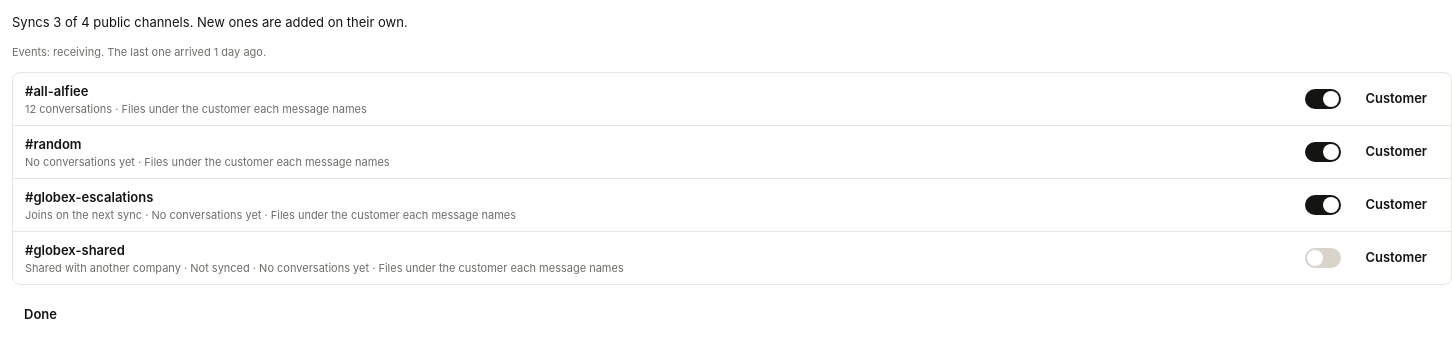
Scenario: SlackChannelsPanel (frontend Decisions 2 to 4) › stops syncing a channel and says so
Step 1. Click the switch named "Sync #random" → [1323, 152], box [1301, 134, 1345, 170]
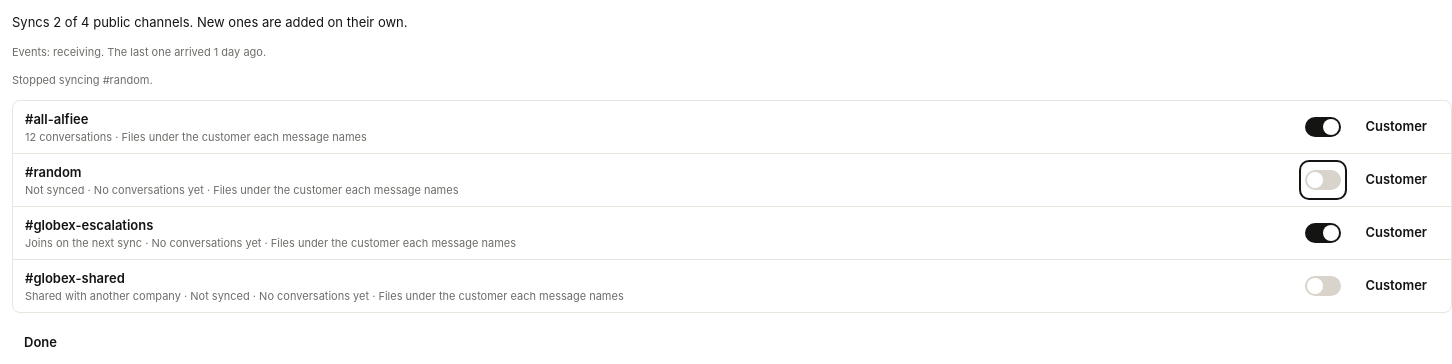
Result: the message reads "Stopped syncing #random." at [12, 73, 153, 87]
